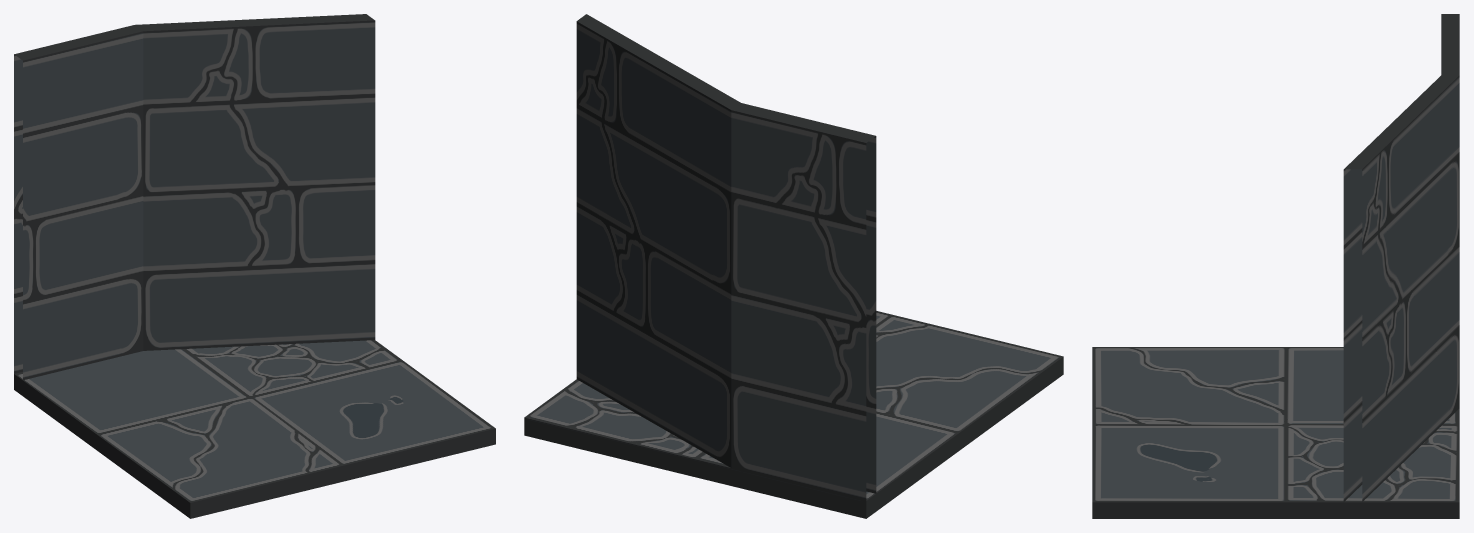
File: Wall-MCURVE-NNE_v1.2.fbx
3 views of the same model, side by side, from view 1: azimuth 30°, elevation 25°; view 2: azimuth 150°, elevation 25°; view 3: azimuth 270°, elevation 25° (orthographic). The views are drawn at different scales.
Visible parts, largest first — view 1: Wall-MCURV-NNE; view 2: Wall-MCURV-NNE; view 3: Wall-MCURV-NNE.
Part boxes in pixels (x1,y1,x2,y2): Wall-MCURV-NNE: [14, 14, 495, 518]; Wall-MCURV-NNE: [524, 14, 1063, 518]; Wall-MCURV-NNE: [1092, 14, 1459, 518].
Bounding box in the file's own units: 100 × 100 × 105.
